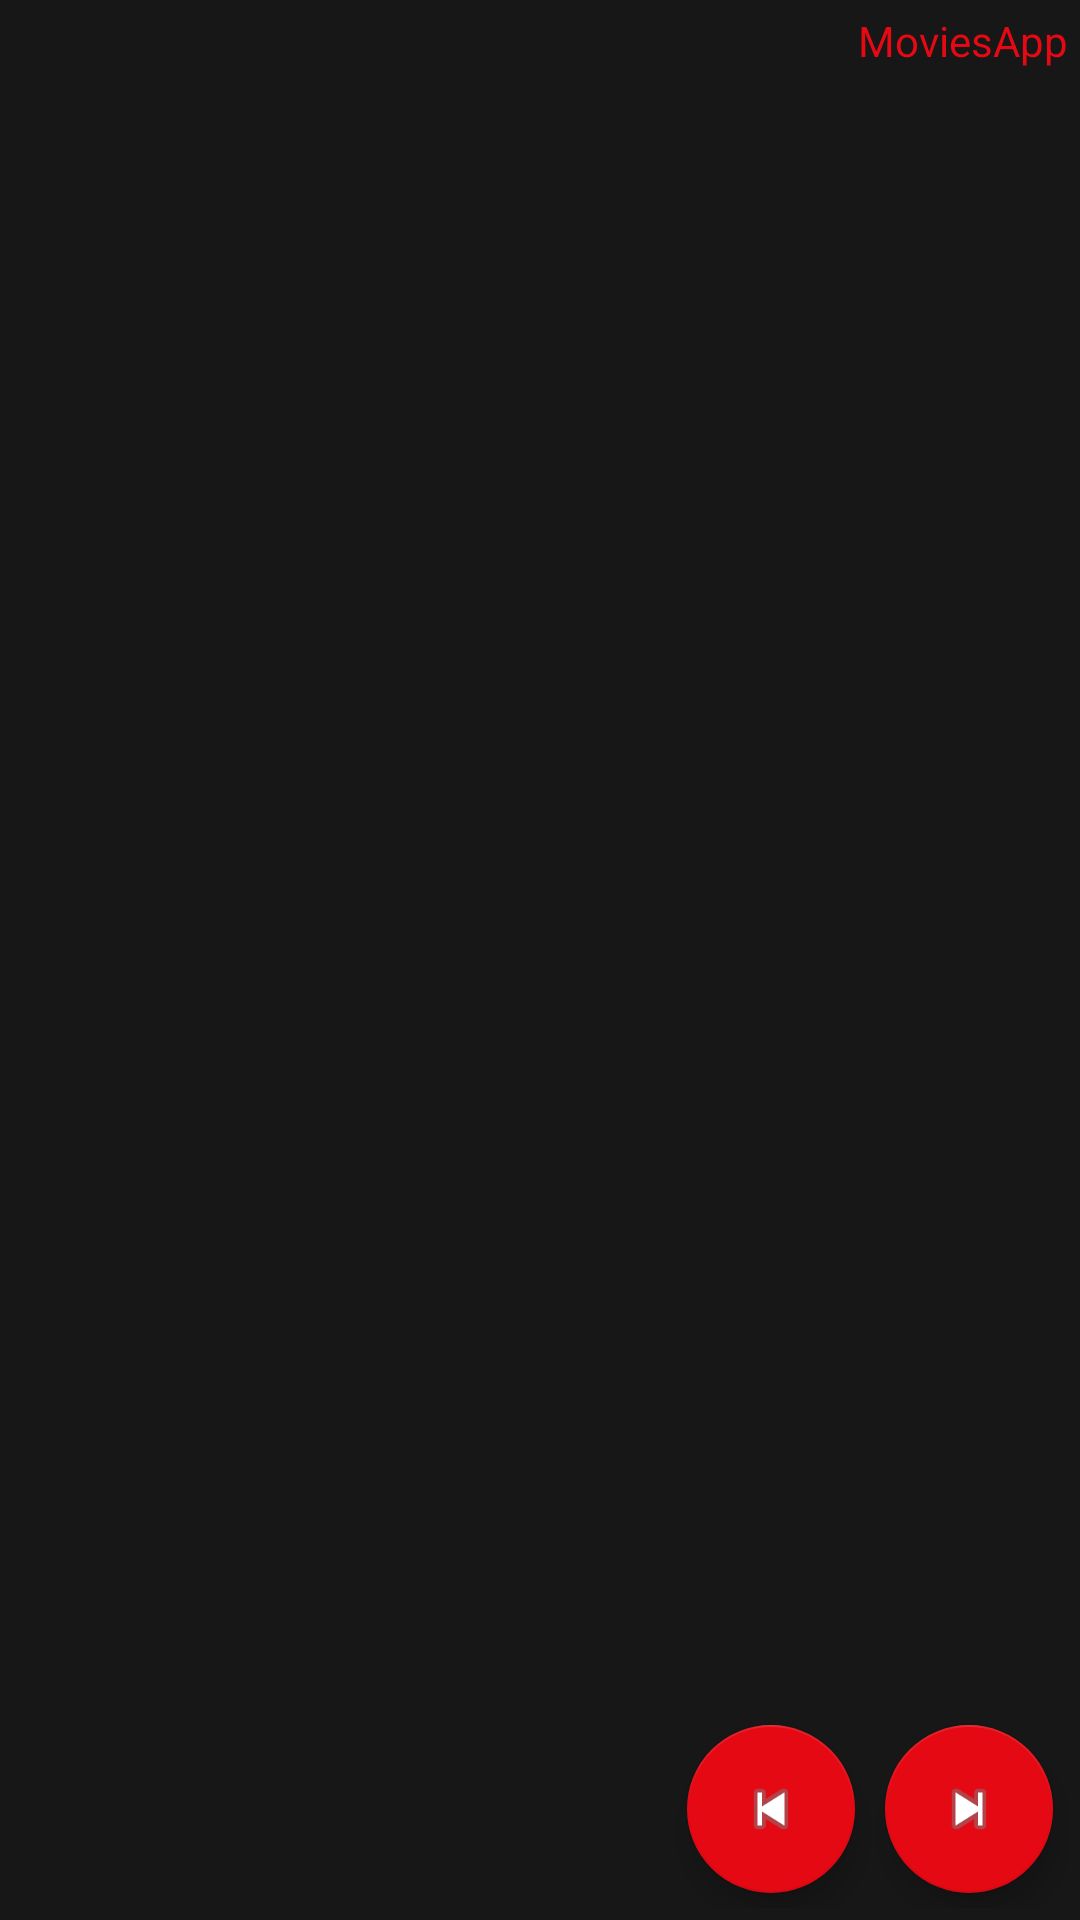

Where to tap for icons on this 1080×1920 app screen, as point (x, y):
next: point (969, 1809)
previous: point (771, 1809)
